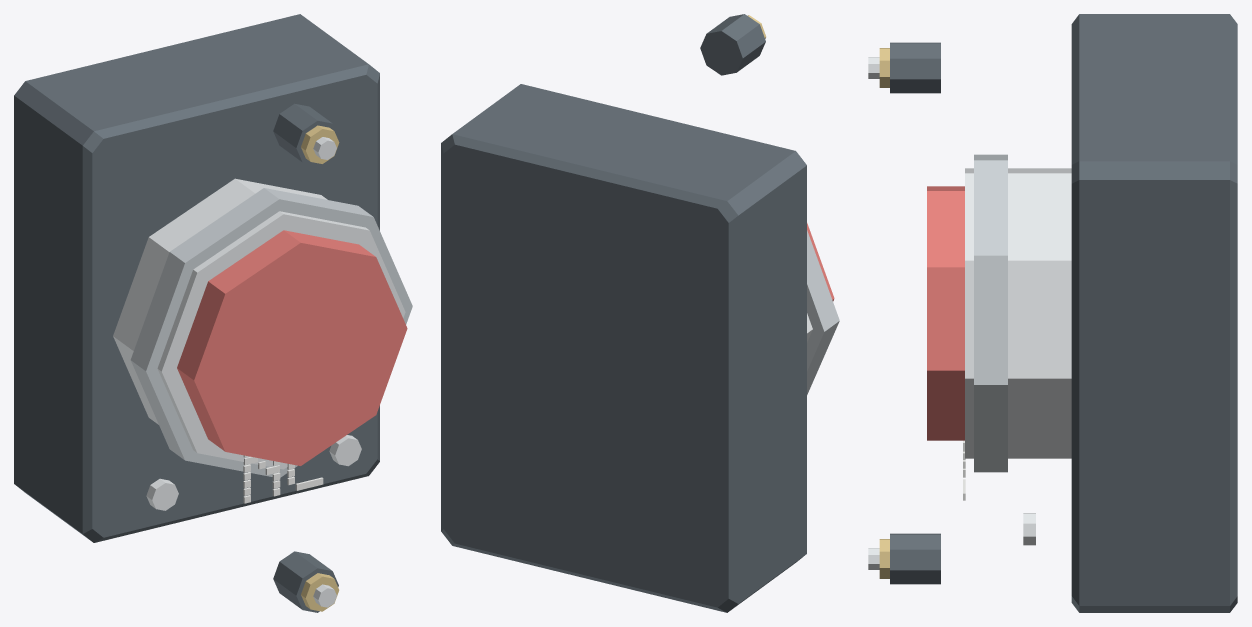
File: pushButtonNC.glb
3 renders of one model, left to right at view 1: azimuth 30°, elevation 25°; view 2: azimuth 150°, elevation 25°; view 3: azimuth 270°, elevation 25°, orthographic. The views are drawn at different scales.
Parts seen in each view (by area): view 1: pushButtonNC-board; view 2: pushButtonNC-board; view 3: pushButtonNC-board.
Boxes of the visible parts, box(x1,y1,x2,y2) form: pushButtonNC-board: box(14, 14, 412, 612); pushButtonNC-board: box(441, 14, 839, 612); pushButtonNC-board: box(868, 14, 1237, 612).
Size of the model in its own units: 1.33 by 2.11 by 1.31.
